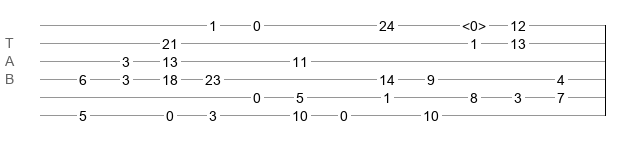0: (166, 108, 174, 118), (253, 18, 261, 28), (253, 90, 261, 100), (340, 108, 348, 118)
1: (209, 18, 217, 28), (383, 90, 391, 100), (470, 36, 478, 46)
10: (292, 108, 308, 118), (423, 108, 439, 118)
11: (292, 54, 308, 64)
12: (510, 18, 526, 28)
13: (162, 54, 178, 64), (510, 36, 526, 46)
14: (379, 72, 395, 82)
18: (162, 72, 178, 82)
21: (162, 36, 178, 46)
23: (205, 72, 221, 82)
24: (379, 18, 395, 28)
3: (122, 54, 130, 64), (122, 72, 130, 82), (209, 108, 217, 118), (514, 90, 522, 100)
4: (557, 72, 565, 82)
5: (79, 108, 87, 118), (296, 90, 304, 100)
6: (79, 72, 87, 82)
7: (557, 90, 565, 100)
8: (470, 90, 478, 100)
9: (427, 72, 435, 82)
harmonic: (462, 18, 486, 28)
